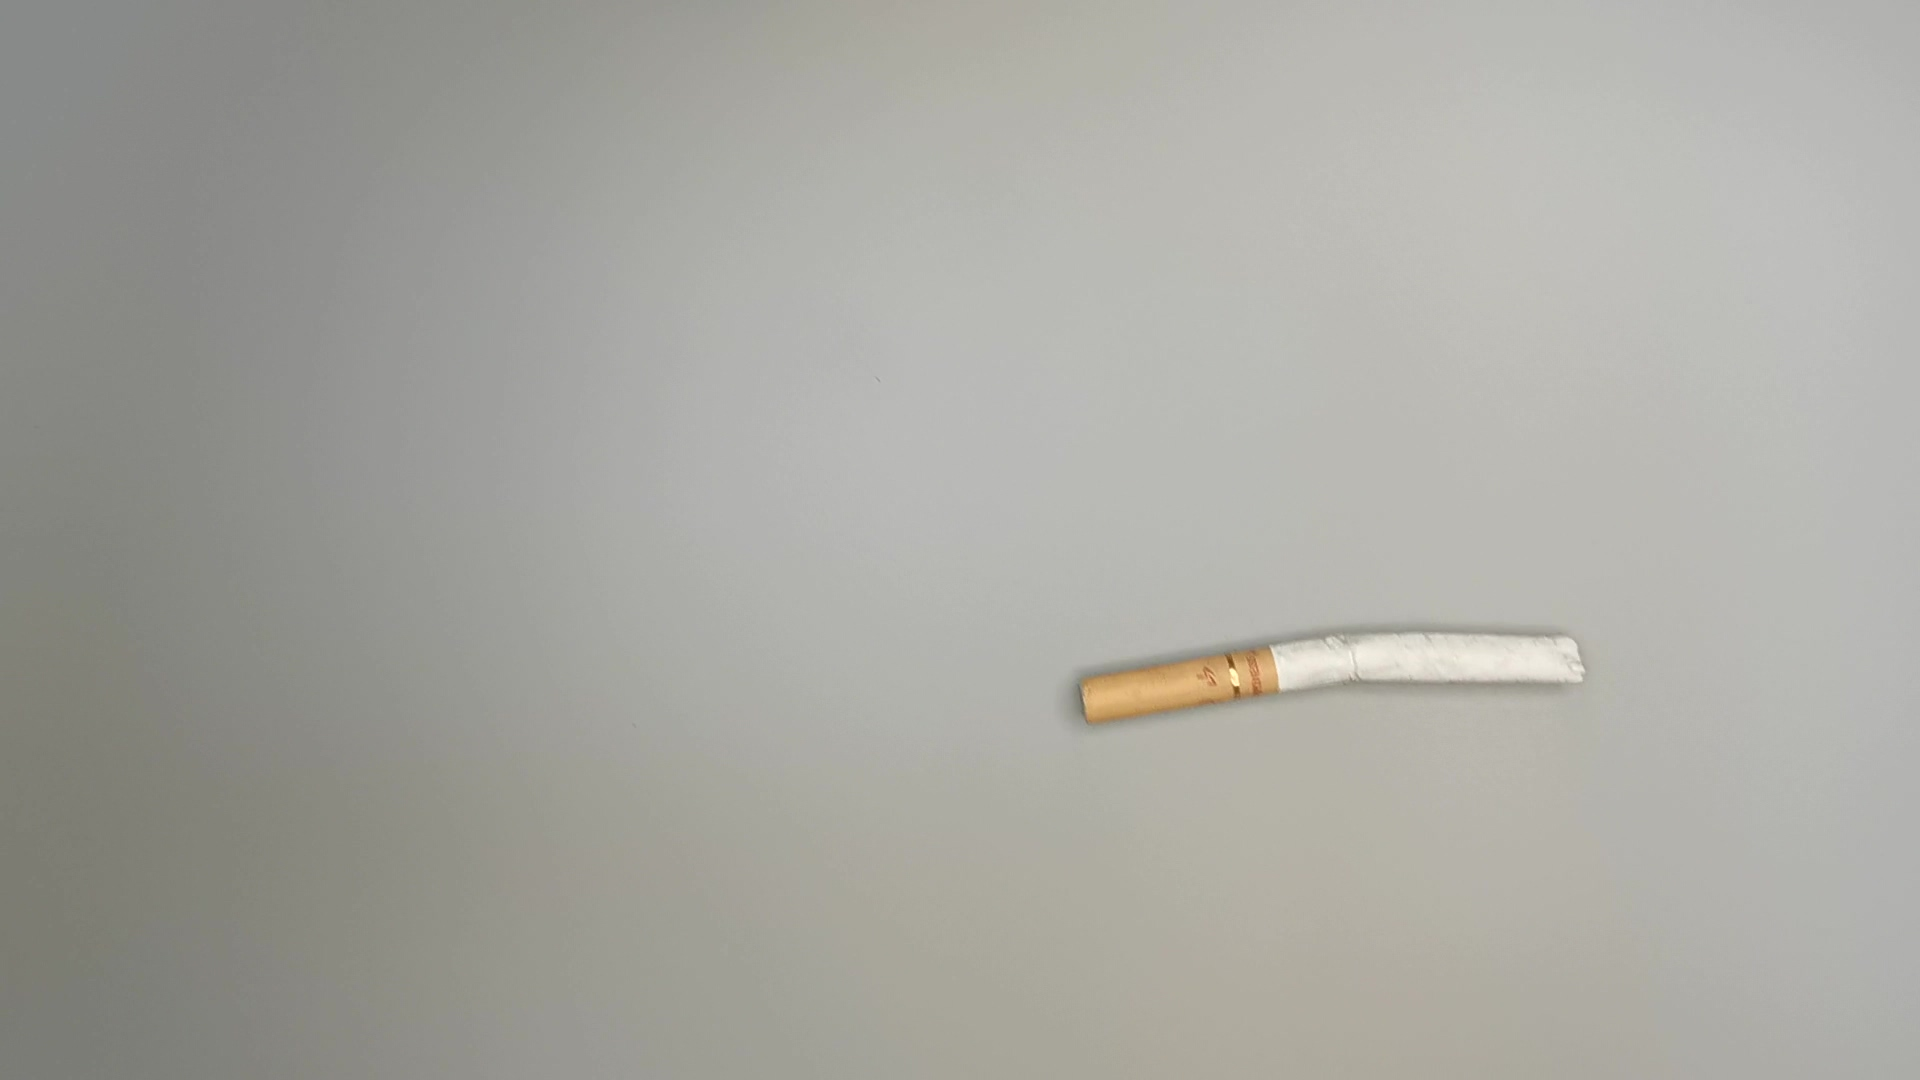cigarette: (1071, 622, 1596, 741)
